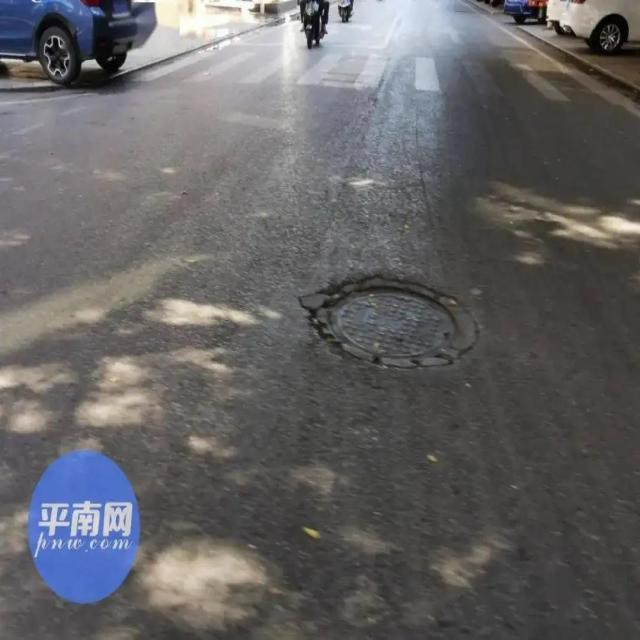Pothole: (293, 276, 475, 376)
